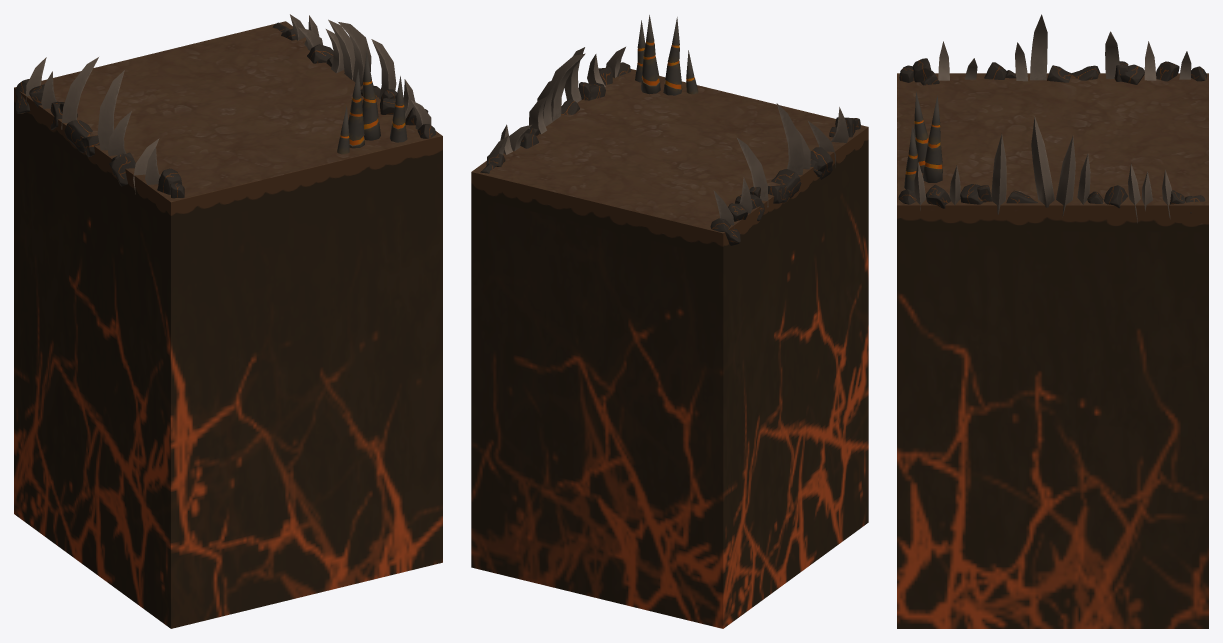
The model's file is Plataforma Estala Izqu.fbx.
3 views of the same model, side by side, from view 1: azimuth 30°, elevation 25°; view 2: azimuth 150°, elevation 25°; view 3: azimuth 270°, elevation 25° (orthographic). The views are drawn at different scales.
Parts seen in each view (by area): view 1: Plataforma 1.006, Cylinder.020, Cone.004, Cylinder.021, Cone.001, Cone.014, Cylinder.008, Cone.008, Cone.011; view 2: Plataforma 1.006, Cylinder.020, Cone.004, Cylinder.021, Cone.014, Cone.001; view 3: Plataforma 1.006, Cone.014, Cylinder.020, Cone.004, Cone.011, Cone.008, Cylinder.021, Cylinder.008, Cone.001, Cone.012.
Boxes of the visible parts, x1,y1,x2,y2 form: Plataforma 1.006: (14,21,442,628); Cylinder.020: (362,51,380,140); Cone.004: (97,70,124,150); Cylinder.021: (348,69,364,148); Cone.001: (61,57,98,129); Cone.014: (338,22,371,86); Cylinder.008: (390,76,407,142); Cone.008: (371,39,396,99); Cone.011: (328,19,355,79); Plataforma 1.006: (471,69,868,628); Cylinder.020: (641,15,660,94); Cone.004: (776,103,804,174); Cylinder.021: (663,17,681,95); Cone.014: (551,53,585,121); Cone.001: (737,138,768,207); Plataforma 1.006: (897,73,1208,628); Cone.014: (1031,116,1054,207); Cylinder.020: (923,95,942,182); Cone.004: (1030,14,1047,80); Cone.011: (1056,135,1075,216); Cone.008: (991,133,1006,214); Cylinder.021: (914,91,928,173); Cylinder.008: (904,125,918,191); Cone.001: (1105,31,1119,78); Cone.012: (1077,154,1090,204).
Bounding box in the file's own units: 1058 × 1795 × 1000.
